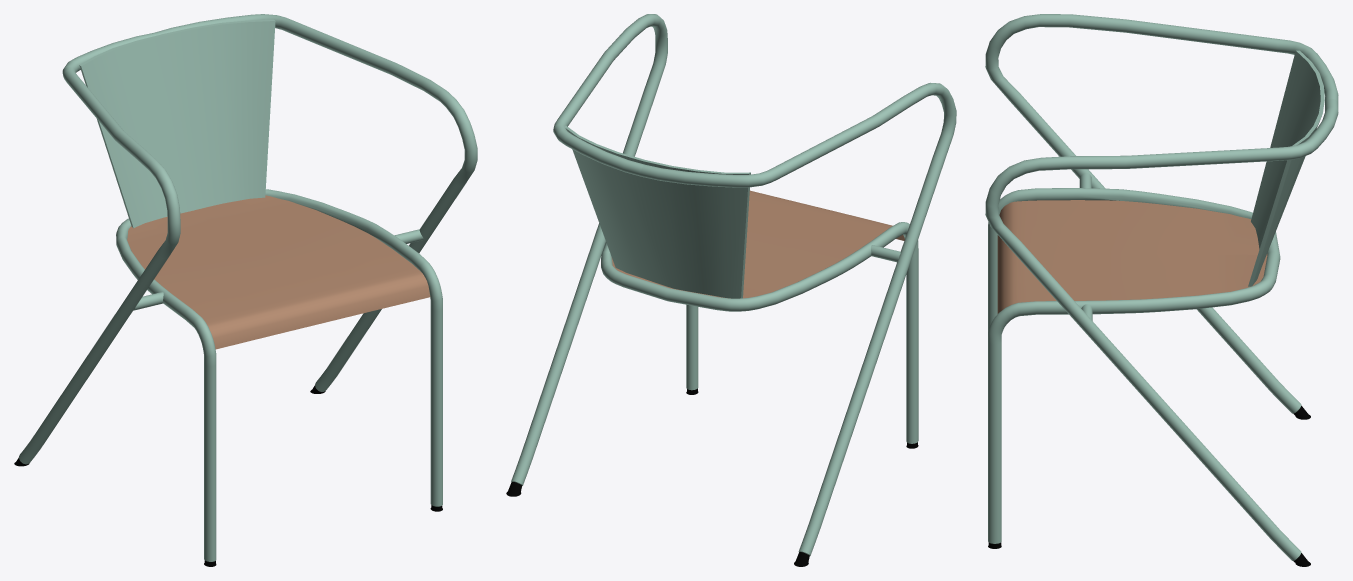
Rendered from Outdoor chair.fbx.
3 views of the same model, side by side, from view 1: azimuth 30°, elevation 25°; view 2: azimuth 150°, elevation 25°; view 3: azimuth 270°, elevation 25° (orthographic). The views are drawn at different scales.
Visible parts, largest first — view 1: Cube.001; view 2: Cube.001; view 3: Cube.001.
Boxes of the visible parts, x1,y1,x2,y2 form: Cube.001: [14, 14, 477, 566]; Cube.001: [506, 14, 956, 566]; Cube.001: [985, 14, 1338, 566].
Size of the model in its own units: 145 by 178 by 140.
